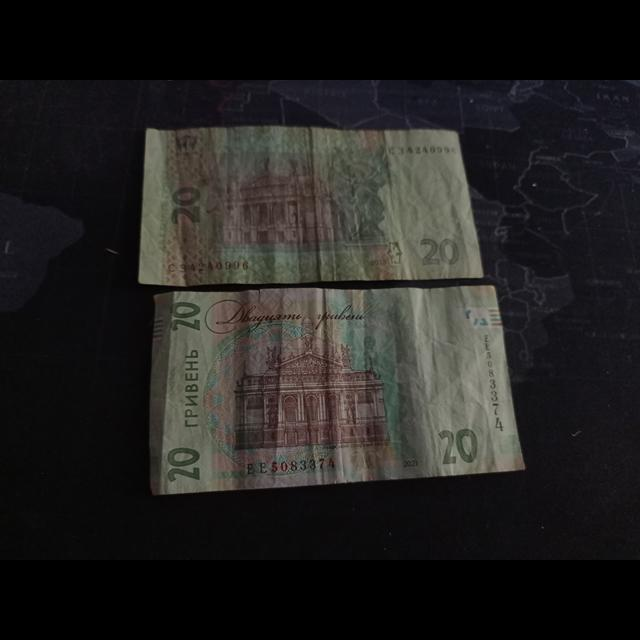20uah: (153, 287, 528, 495), (140, 131, 481, 284)
